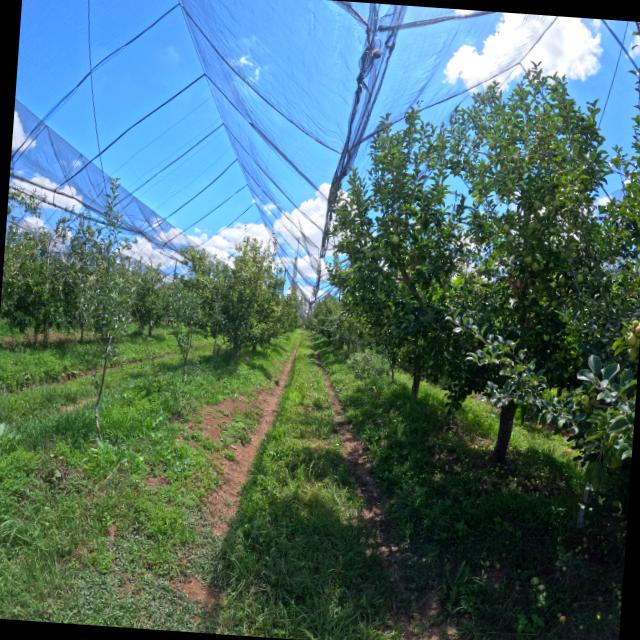-FireBlight-: (508, 273, 523, 295)
